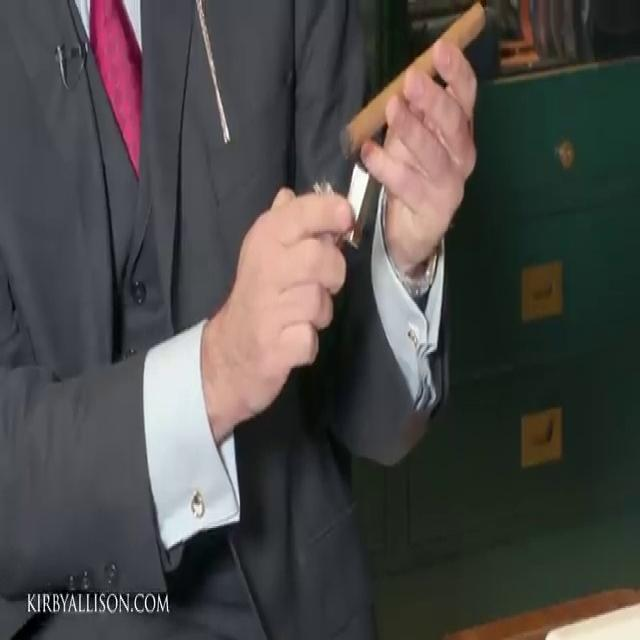Smooking: (341, 0, 523, 188)
